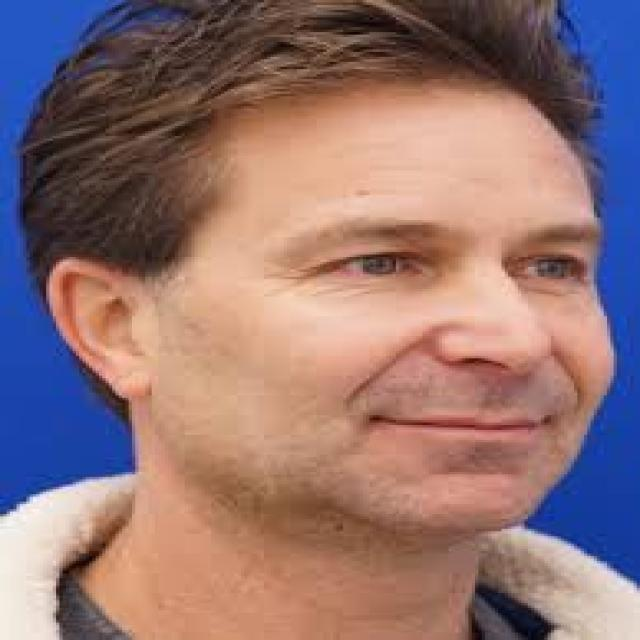normal_face: (49, 20, 640, 541)
